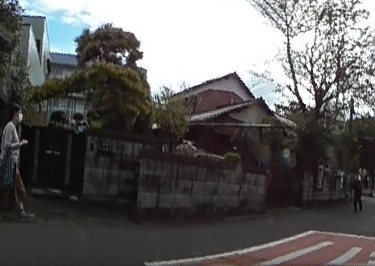person: (349, 174, 363, 210)
